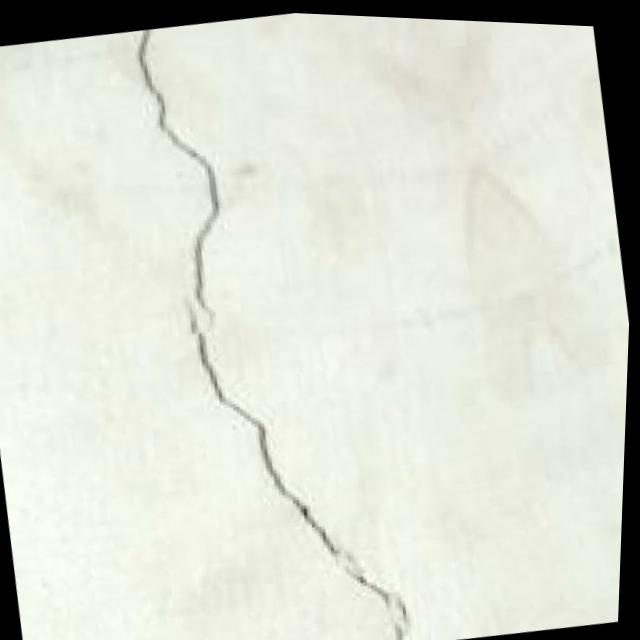Crack: (75, 3, 488, 640)
